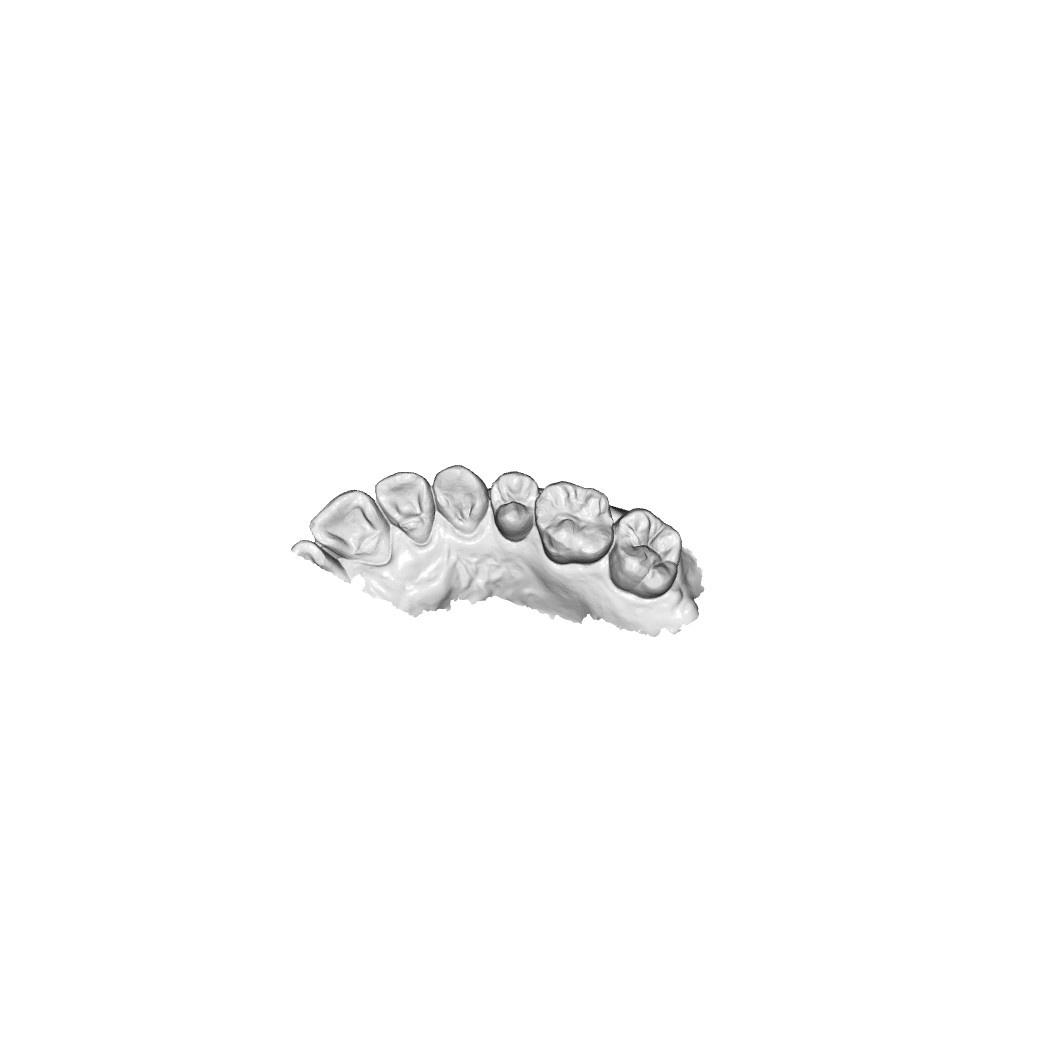canine: (431, 460, 487, 536)
incisor: (309, 488, 386, 562), (372, 469, 436, 545)
molar: (607, 507, 685, 600), (534, 480, 615, 566)
premolar: (489, 470, 544, 541)
